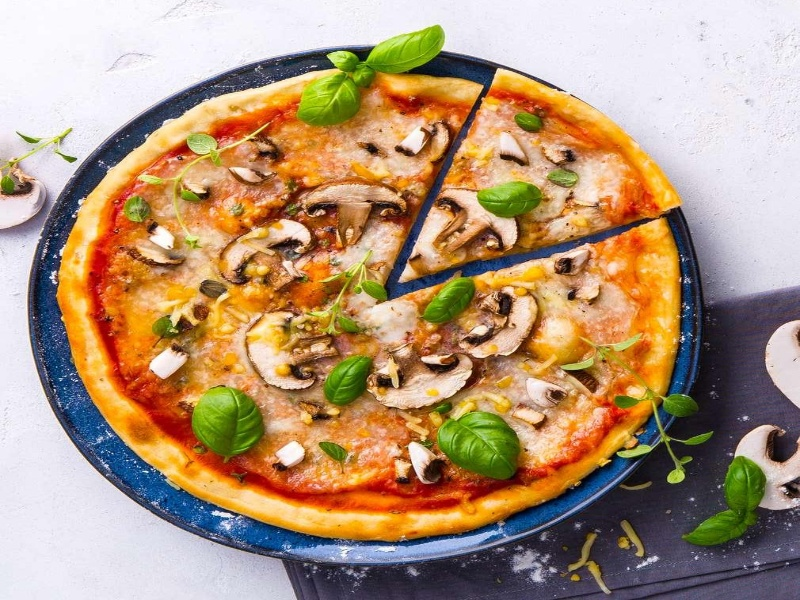champignon: (244, 308, 343, 401), (215, 216, 314, 306), (299, 174, 409, 253), (432, 182, 524, 266), (369, 349, 476, 415), (453, 284, 540, 365)
